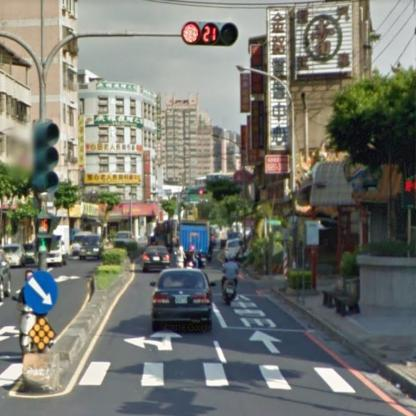Red Light: (180, 22, 240, 48), (188, 186, 206, 194)
